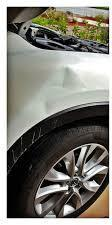dent: (39, 65, 89, 116)
